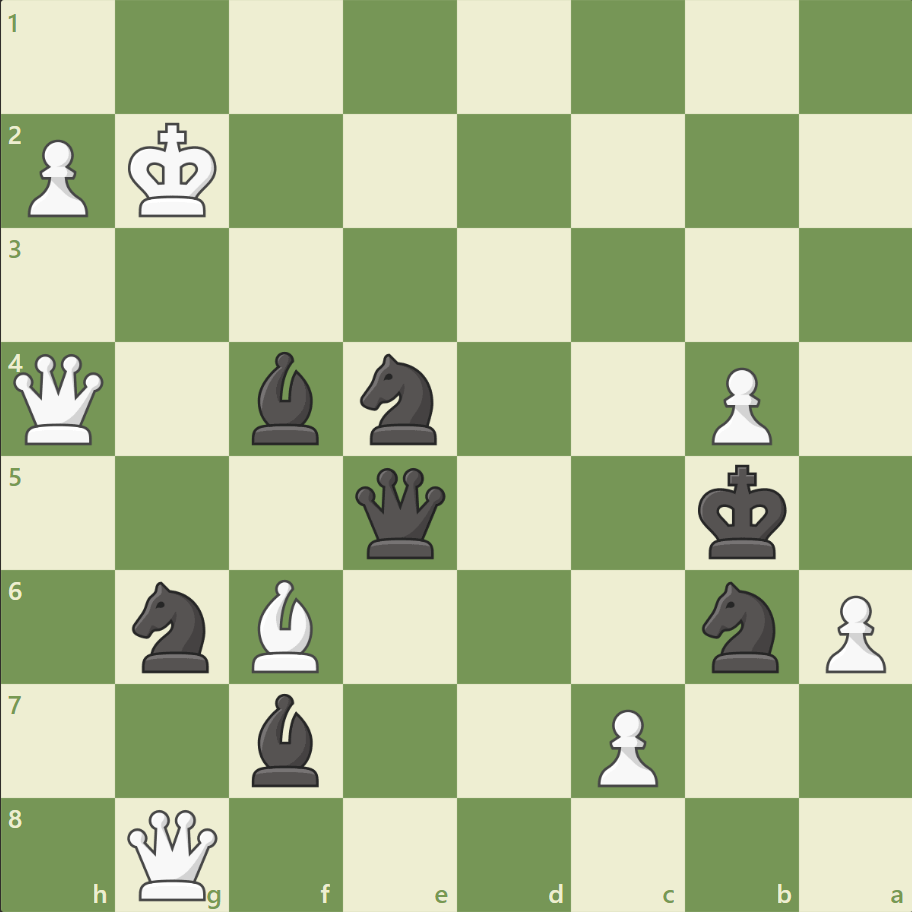B: (244, 574, 328, 676)
K: (124, 117, 224, 225)
P: (701, 359, 776, 450), (20, 132, 95, 223), (588, 700, 662, 791), (815, 586, 889, 677)
Q: (10, 349, 109, 449), (124, 804, 223, 903)
b: (244, 687, 328, 790), (244, 347, 328, 449)
k: (692, 458, 792, 566)
n: (124, 575, 222, 677), (351, 348, 449, 450), (692, 575, 789, 677)
q: (351, 463, 450, 562)
